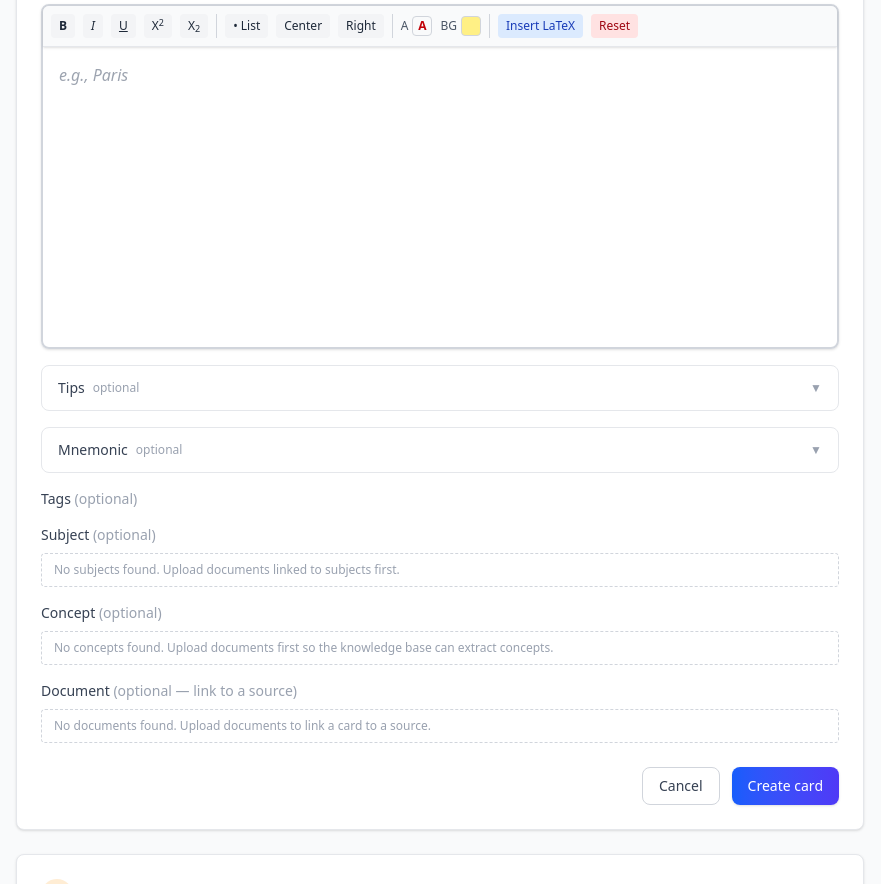
Scenario: CreateCardPage — tips and mnemonic sections › Mnemonic section expands when clicked
The width and height of the screenshot is (881, 884).
(page scrolled)
Click the text "Mnemonic" at (93, 450), box [58,440,128,460]
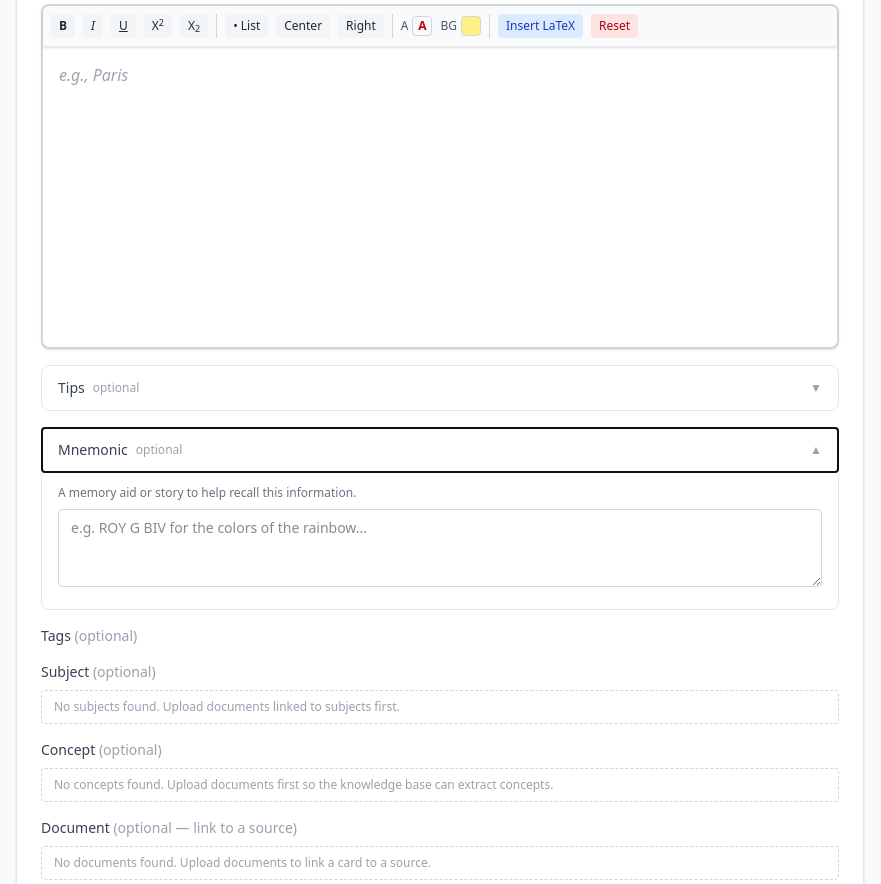
Now the text box with placeholder "e.g. ROY G BIV for the colors of the rainbow..." is shown, box [58,509,822,587]
